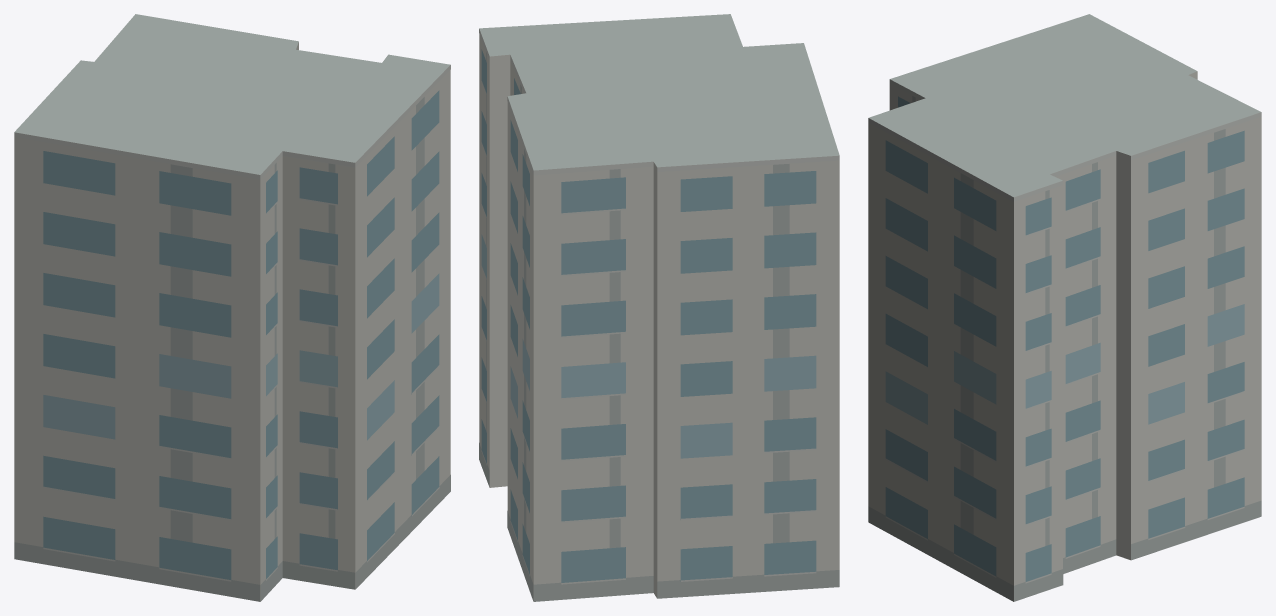
File: survey-upis-32684059.glb
The picture shows the model from 3 angles, left to right: view 1: azimuth 30°, elevation 25°; view 2: azimuth 150°, elevation 25°; view 3: azimuth 270°, elevation 25°; orthographic projection. The views are drawn at different scales.
Parts seen in each view (by area): view 1: survey-upis-32684059.tmp; view 2: survey-upis-32684059.tmp; view 3: survey-upis-32684059.tmp.
Part boxes in pixels (x1=…): survey-upis-32684059.tmp: x1=14, y1=14, x2=450, y2=601; survey-upis-32684059.tmp: x1=479, y1=14, x2=839, y2=601; survey-upis-32684059.tmp: x1=868, y1=14, x2=1261, y2=601.
Size of the model in its own units: 20.77 by 21.35 by 18.81.
